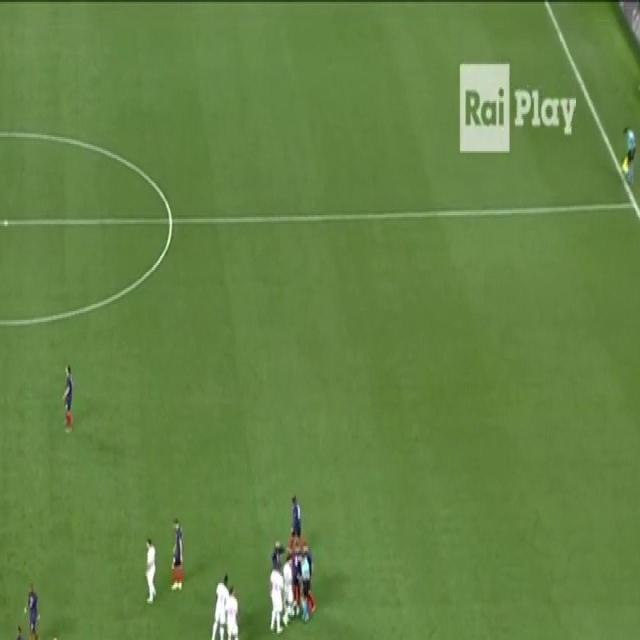player-white: (209, 569, 232, 640), (168, 513, 186, 593), (294, 550, 312, 630), (268, 559, 286, 637), (288, 541, 304, 622), (59, 359, 75, 438), (22, 577, 42, 640), (301, 540, 317, 616), (142, 536, 158, 610), (622, 121, 638, 190), (282, 552, 296, 630), (223, 583, 241, 640), (269, 535, 293, 571), (289, 493, 303, 550), (12, 622, 27, 640), (46, 631, 64, 640), (212, 636, 234, 640)
